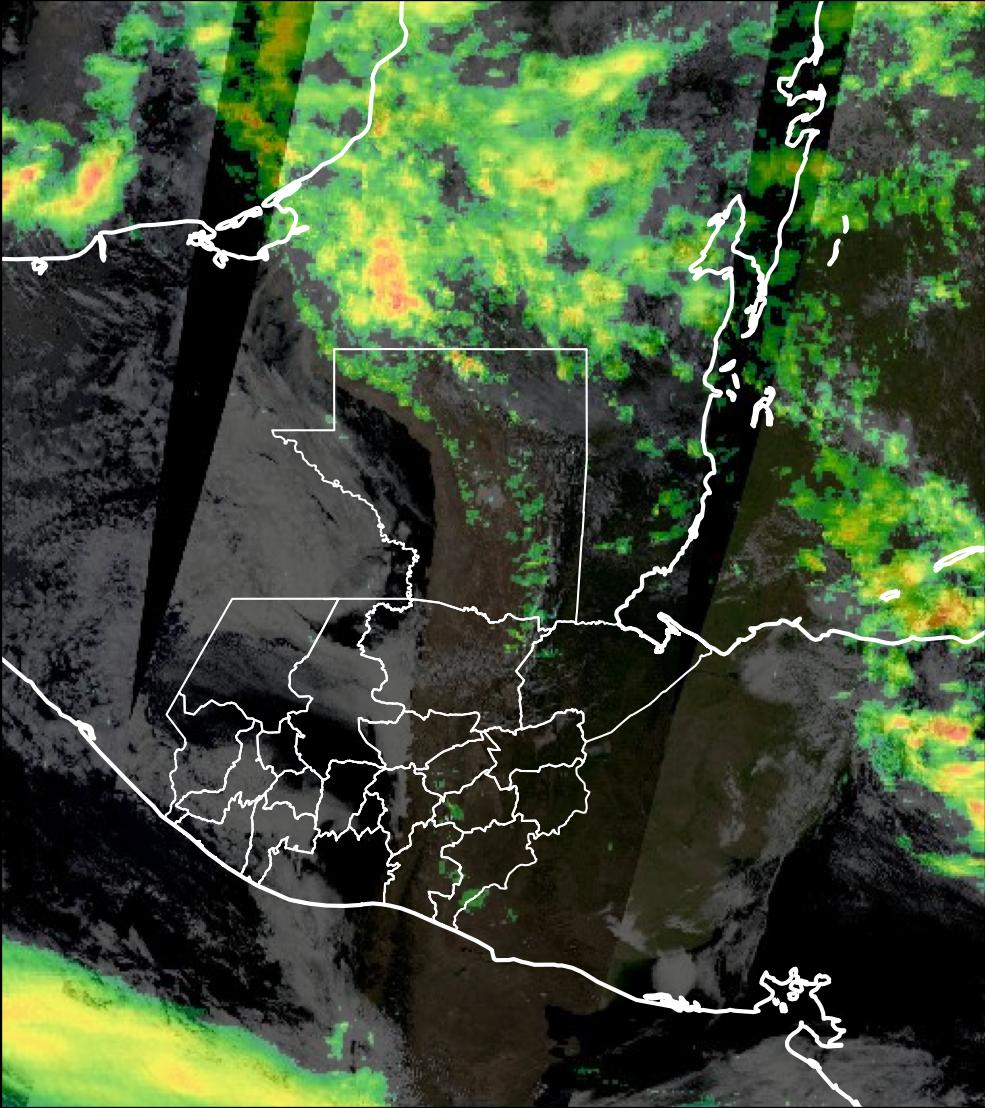precipitacion: (1, 142, 127, 224), (357, 237, 426, 324)
